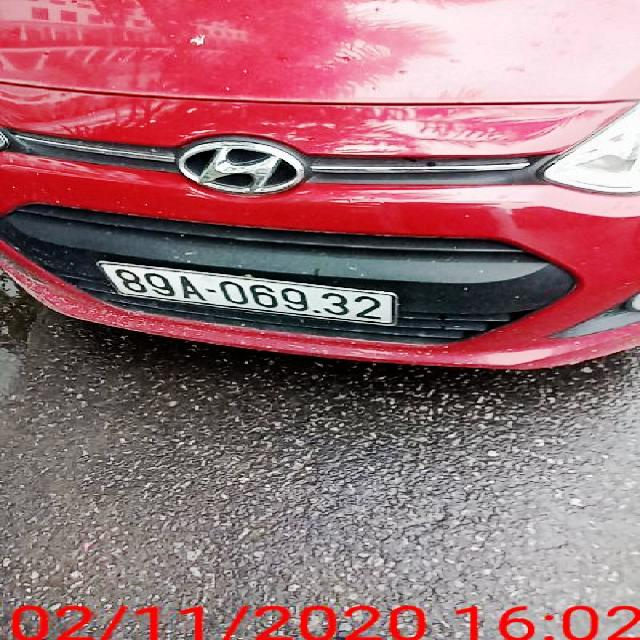license_plate: (104, 258, 393, 324)
